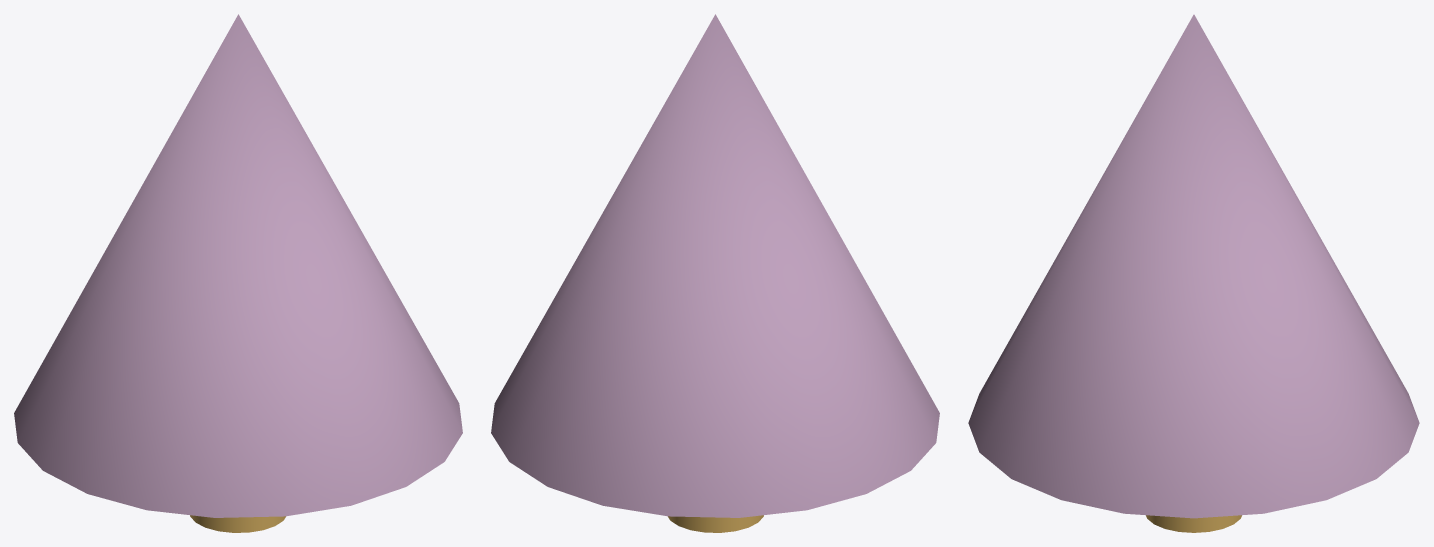
The model's file is cone_roxo.fbx.
3 views of the same model, side by side, from view 1: azimuth 30°, elevation 25°; view 2: azimuth 150°, elevation 25°; view 3: azimuth 270°, elevation 25° (orthographic).
Visible parts, largest first — view 1: pCone3, arvore18; view 2: pCone3, arvore18; view 3: pCone3, arvore18.
Boxes of the visible parts, bbox=[...] form: pCone3: bbox=[14, 14, 462, 517]; arvore18: bbox=[190, 515, 285, 532]; pCone3: bbox=[491, 14, 939, 517]; arvore18: bbox=[668, 515, 763, 532]; pCone3: bbox=[968, 14, 1419, 518]; arvore18: bbox=[1146, 515, 1241, 532].
Bounding box in the file's own units: 2.39 × 2.91 × 2.39.
